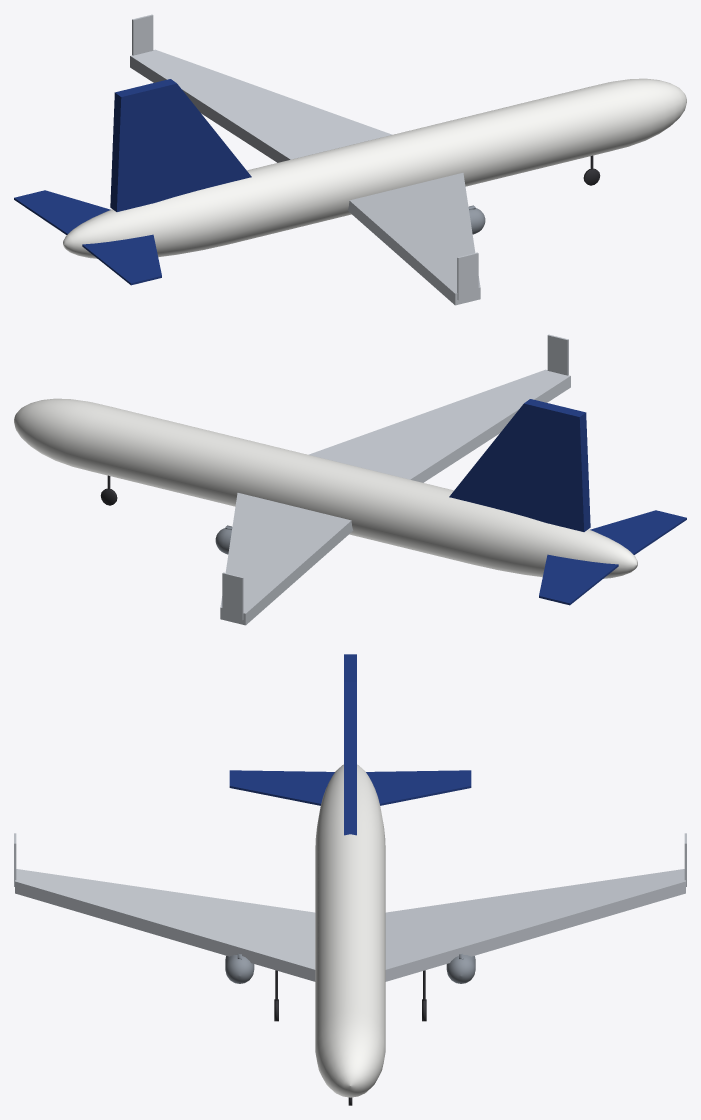
The picture shows the model from 3 angles, top to bottom: view 1: azimuth 30°, elevation 25°; view 2: azimuth 150°, elevation 25°; view 3: azimuth 270°, elevation 25°; orthographic projection. The views are drawn at different scales.
Parts seen in each view (by area): view 1: fuselage, wings, tail; view 2: fuselage, wings, tail; view 3: wings, fuselage, tail, engines.
Part boxes in pixels (bbox=[...]): fuselage: bbox=[63, 78, 686, 258]; wings: bbox=[130, 14, 480, 305]; tail: bbox=[14, 79, 251, 285]; fuselage: bbox=[14, 398, 637, 578]; wings: bbox=[220, 334, 570, 625]; tail: bbox=[449, 399, 686, 605]; wings: bbox=[14, 833, 686, 981]; fuselage: bbox=[315, 764, 385, 1097]; tail: bbox=[229, 654, 471, 835]; engines: bbox=[225, 953, 475, 983].
Bounding box in the file's own units: 39.5 × 12.49 × 35.92.
